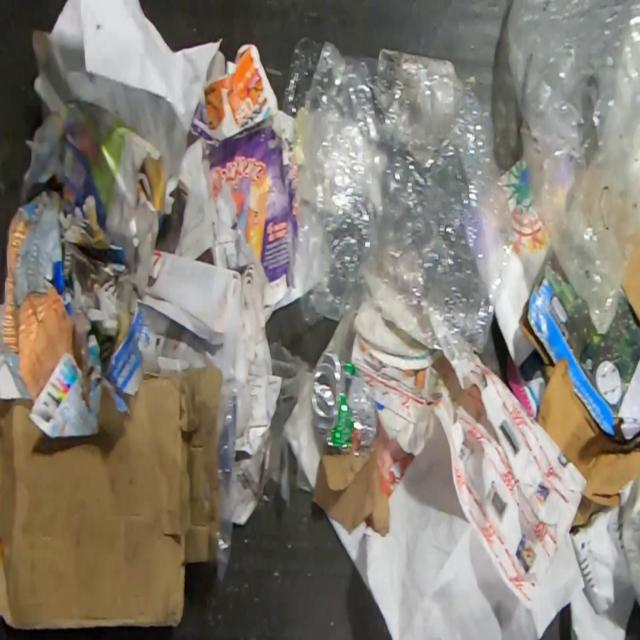cardboard: (0, 361, 223, 632), (188, 41, 294, 307), (519, 249, 640, 441), (0, 186, 88, 400), (536, 356, 640, 528), (310, 444, 392, 539), (621, 240, 640, 324)
metal: (310, 349, 378, 451)
soft_plastic: (274, 33, 518, 362), (506, 0, 640, 335), (242, 335, 319, 506), (215, 370, 254, 589)
